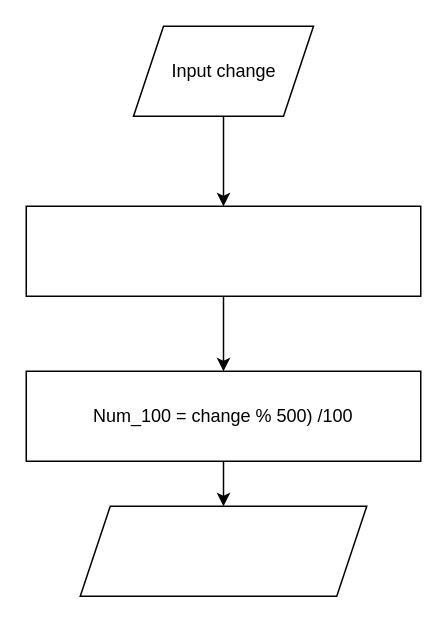
Image size: 447x623. Some labels were removed from this diagram. The shapes that lost their labels are listed below. From the top down, each one's centre as x and y in pixels, then its label:
(x=223, y=250): Num_500 = change / 500의 몫
(x=223, y=550): Output run_500, num_100
